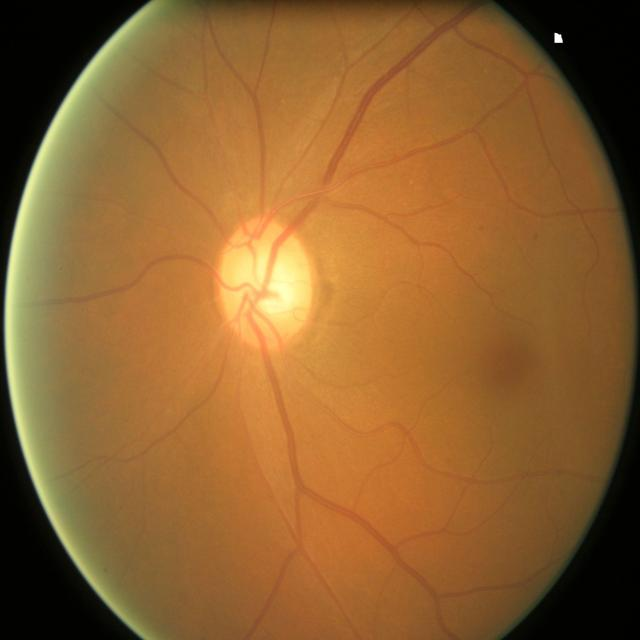OC: (256, 256, 298, 314)
OD: (218, 218, 317, 349)
